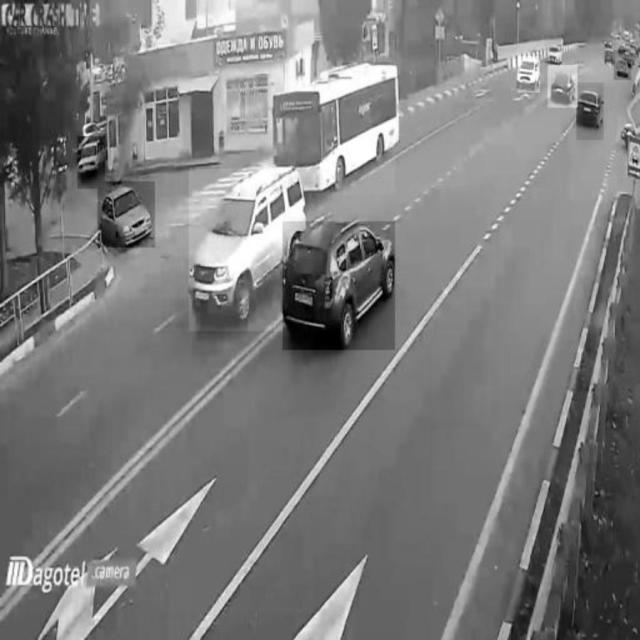vehicle: (271, 60, 395, 194), (189, 170, 287, 332), (282, 222, 395, 350), (98, 181, 155, 247), (577, 82, 604, 140), (78, 137, 105, 189), (547, 66, 577, 108), (517, 57, 541, 93), (546, 35, 563, 65), (614, 50, 631, 80)
